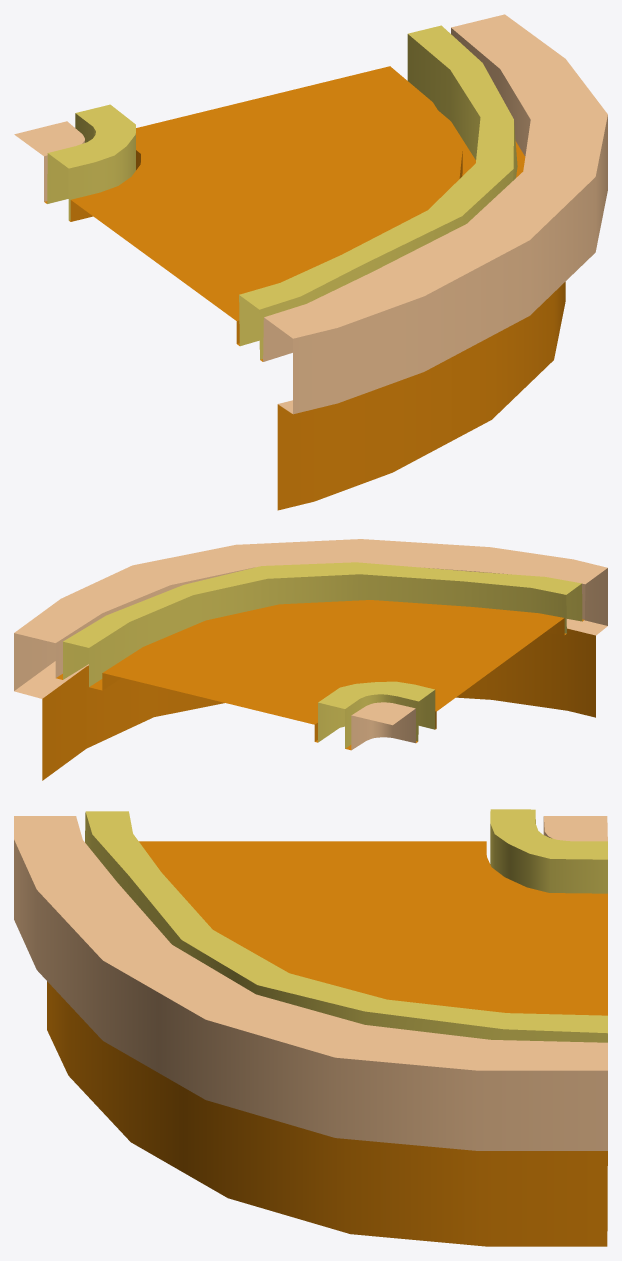
File: coniveyor.fbx
3 views of the same model, one above another, from view 1: azimuth 30°, elevation 25°; view 2: azimuth 150°, elevation 25°; view 3: azimuth 270°, elevation 25° (orthographic). The views are drawn at different scales.
Visible parts, largest first — view 1: Cube.004; view 2: Cube.004; view 3: Cube.004.
Boxes of the visible parts, x1=… form: Cube.004: x1=14, y1=14, x2=607, y2=510; Cube.004: x1=14, y1=539, x2=607, y2=780; Cube.004: x1=14, y1=809, x2=607, y2=1246.
Size of the model in its own units: 97.9 by 36.04 by 96.43.
